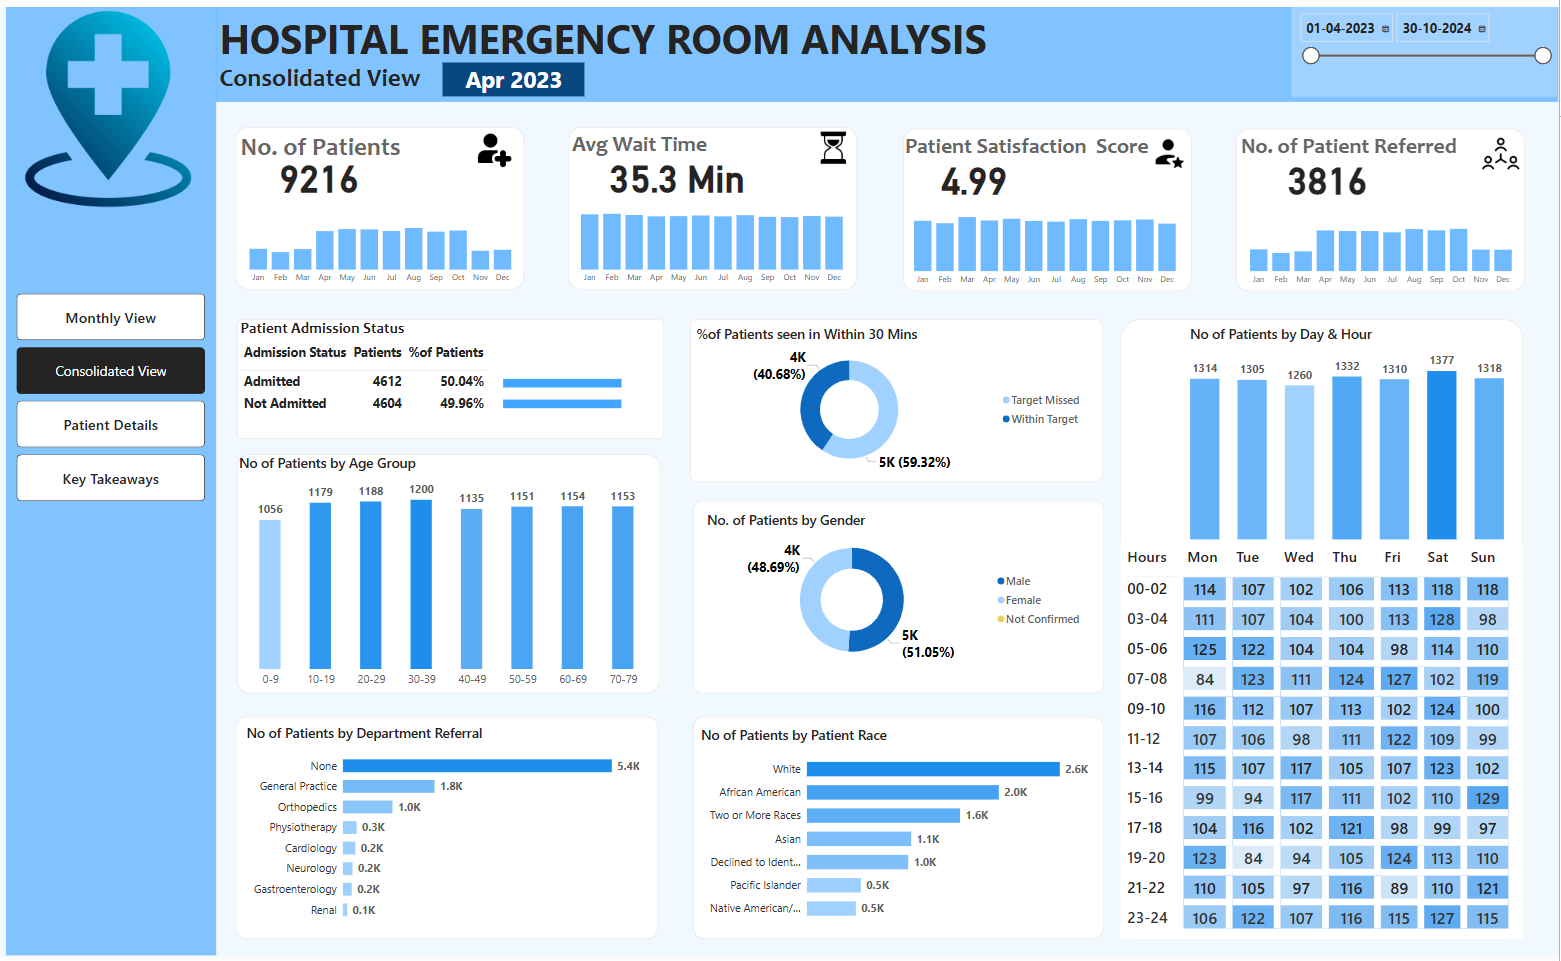

Layout of this report page (visuals, bound fields, positions):
{"tool":"powerbi","page":{"name":"Consolidated View","canvas":[2300,1400],"ordinal":1},"visuals":[{"type":"shape","box":[1018.8,459.4,609.4,240.6],"z":0},{"type":"shape","box":[349.7,459.2,630,177],"z":1000},{"type":"shape","box":[346.7,176.4,425.7,240.2],"z":2000},{"type":"shape","box":[9.1,0,310,1398.9],"z":3000},{"type":"shape","box":[319.3,0,1979.7,140],"z":4000},{"type":"textbox","box":[319.3,0,1216.4,97.3],"z":5000},{"type":"textbox","box":[318.8,75,334.4,59.4],"z":6000},{"type":"card","fields":{"Values":["Hospital ER_Data.No of Patients"]},"box":[397.3,210.8,143.2,73],"z":7000},{"type":"slicer","fields":{"Values":["DateTable.Date"]},"box":[1905.4,0,391.9,132.4],"z":8000},{"type":"textbox","box":[349.7,176.4,270.6,63.9],"z":10000},{"type":"columnChart","fields":{"Category":["DateTable.Month Name"],"Y":["Hospital ER_Data.No of Patients"]},"box":[349.7,282.8,422.7,133.8],"z":11000},{"type":"card","fields":{"Values":["Min(DateTable.MonthYear)"]},"box":[653.1,81.2,209.4,50],"z":12000},{"type":"shape","box":[838.5,176.2,425.7,240.2],"z":13000},{"type":"card","fields":{"Values":["Hospital ER_Data.Avg Wait Time"]},"box":[888,209.8,222,73],"z":14000},{"type":"textbox","box":[838.2,176.2,270.6,63.9],"z":15000},{"type":"columnChart","fields":{"Y":["Avg(Hospital ER_Data.Patient Waittime)"],"Category":["DateTable.Month Name"]},"box":[838.2,282.7,422.7,133.8],"z":16000},{"type":"shape","box":[1332.4,178.1,425.7,240.2],"z":17000},{"type":"card","fields":{"Values":["Hospital ER_Data.Avg Patient Satisfaction Score"]},"box":[1377.3,211.6,115.6,73],"z":18000},{"type":"textbox","box":[1328.9,179.4,422.7,60.8],"z":19000},{"type":"columnChart","fields":{"Y":["Hospital ER_Data.Avg Patient Satisfaction Score"],"Category":["DateTable.Month Name"]},"box":[1328.6,284.6,422.7,133.8],"z":20000},{"type":"shape","box":[1822.2,180,425.7,240.2],"z":21000},{"type":"card","fields":{"Values":["Hospital ER_Data.No. of Patient Referred"]},"box":[1875,212.5,162.5,75],"z":22000},{"type":"textbox","box":[1824.6,179.4,422.7,63.9],"z":23000},{"type":"columnChart","fields":{"Category":["DateTable.Month Name"],"Y":["Hospital ER_Data.No. of Patient Referred"]},"box":[1825.2,286.5,422.7,133.8],"z":24000},{"type":"pivotTable","title":"Patient Admission Status","fields":{"Rows":["Hospital ER_Data.Admission Status"],"Values":["Hospital ER_Data.No of Patients1","Hospital ER_Data.No of Patients"]},"box":[349.7,459.2,513.9,176.4],"z":25000},{"type":"clusteredBarChart","fields":{"Category":["Hospital ER_Data.Admission Status"],"Y":["Hospital ER_Data.No of Patients"]},"box":[735.9,520,237.2,94.3],"z":26000},{"type":"shape","box":[349.7,659.9,623.4,352.8],"z":27000},{"type":"clusteredColumnChart","fields":{"Category":["Hospital ER_Data.Age Group"],"Y":["Hospital ER_Data.No of Patients"]},"box":[346.7,659.9,623.4,352.8],"z":28000},{"type":"shape","box":[346.7,1046.1,623.4,328.4],"z":29000},{"type":"clusteredBarChart","fields":{"Category":["Hospital ER_Data.Department Referral"],"Y":["Hospital ER_Data.No of Patients"]},"box":[358.8,1058.3,590,301.1],"z":30000},{"type":"donutChart","title":"%of Patients seen in Within 30 Mins","fields":{"Category":["Hospital ER_Data.Waittime Status"],"Y":["Hospital ER_Data.No of Patients"]},"box":[1021.9,468.8,584.4,221.9],"z":31000},{"type":"shape","box":[1021.9,728.1,606.2,284.4],"z":32000},{"type":"donutChart","title":"No. of Patients by Gender","fields":{"Y":["Hospital ER_Data.No of Patients"],"Category":["Hospital ER_Data.Patient Gender"]},"box":[1037.5,743.8,568.8,234.4],"z":33000},{"type":"shape","box":[1021.9,1046.9,606.2,328.1],"z":34000},{"type":"clusteredBarChart","fields":{"Y":["Hospital ER_Data.No of Patients"],"Category":["Hospital ER_Data.Patient Race"]},"box":[1028.1,1059.4,590.6,300],"z":35000},{"type":"shape","box":[1653.1,459.4,593.8,915.6],"z":36000},{"type":"pivotTable","fields":{"Rows":["Hospital ER_Data.Waittime Interval"],"Columns":["DateTable.Day Name"],"Values":["Hospital ER_Data.No of Patients"]},"box":[1653.1,790.6,593.8,584.4],"z":37000},{"type":"columnChart","title":"No of Patients by Day & Hour","fields":{"Category":["DateTable.Day Name"],"Y":["Hospital ER_Data.No of Patients"]},"box":[1750,468.8,475,321.9],"z":38000},{"type":"image","box":[0,0,318.8,300],"z":39000},{"type":"image","box":[696.9,181.2,65.6,59.4],"z":40000},{"type":"image","box":[1200,175.7,59.5,64.9],"z":41000},{"type":"image","box":[1690.6,184.4,65.6,59.4],"z":42000},{"type":"image","box":[2178.1,184.4,68.8,65.6],"z":43000},{"type":"pageNavigator","box":[25,421.9,278.1,306.2],"z":43001}]}

Visuals, with their boxes in screenshot pixels (x1, y1, x2, y2), scaled from the page's 2300x1400 canvas onto the 1561x961 screenshot:
shape: crop(691, 315, 1105, 480)
shape: crop(237, 315, 665, 437)
shape: crop(235, 121, 524, 286)
shape: crop(6, 0, 217, 960)
shape: crop(217, 0, 1560, 96)
textbox: crop(217, 0, 1042, 67)
textbox: crop(216, 51, 443, 92)
card - Hospital ER_Data.No of Patients: crop(270, 145, 367, 195)
slicer - DateTable.Date: crop(1293, 0, 1559, 91)
textbox: crop(237, 121, 421, 165)
columnChart - DateTable.Month Name x Hospital ER_Data.No of Patients: crop(237, 194, 524, 286)
card - Min(DateTable.MonthYear): crop(443, 56, 585, 90)
shape: crop(569, 121, 858, 286)
card - Hospital ER_Data.Avg Wait Time: crop(603, 144, 753, 194)
textbox: crop(569, 121, 753, 165)
columnChart - Avg(Hospital ER_Data.Patient Waittime) x DateTable.Month Name: crop(569, 194, 856, 286)
shape: crop(904, 122, 1193, 287)
card - Hospital ER_Data.Avg Patient Satisfaction Score: crop(935, 145, 1013, 195)
textbox: crop(902, 123, 1189, 165)
columnChart - Hospital ER_Data.Avg Patient Satisfaction Score x DateTable.Month Name: crop(902, 195, 1189, 287)
shape: crop(1237, 124, 1526, 288)
card - Hospital ER_Data.No. of Patient Referred: crop(1273, 146, 1383, 197)
textbox: crop(1238, 123, 1525, 167)
columnChart - DateTable.Month Name x Hospital ER_Data.No. of Patient Referred: crop(1239, 197, 1526, 289)
"Patient Admission Status" pivotTable: crop(237, 315, 586, 436)
clusteredBarChart - Hospital ER_Data.Admission Status x Hospital ER_Data.No of Patients: crop(499, 357, 660, 422)
shape: crop(237, 453, 660, 695)
clusteredColumnChart - Hospital ER_Data.Age Group x Hospital ER_Data.No of Patients: crop(235, 453, 658, 695)
shape: crop(235, 718, 658, 943)
clusteredBarChart - Hospital ER_Data.Department Referral x Hospital ER_Data.No of Patients: crop(244, 726, 644, 933)
"%of Patients seen in Within 30 Mins" donutChart: crop(694, 322, 1090, 474)
shape: crop(694, 500, 1105, 695)
"No. of Patients by Gender" donutChart: crop(704, 511, 1090, 671)
shape: crop(694, 719, 1105, 944)
clusteredBarChart - Hospital ER_Data.No of Patients x Hospital ER_Data.Patient Race: crop(698, 727, 1099, 933)
shape: crop(1122, 315, 1525, 944)
pivotTable - Hospital ER_Data.Waittime Interval x DateTable.Day Name: crop(1122, 543, 1525, 944)
"No of Patients by Day & Hour" columnChart: crop(1188, 322, 1510, 543)
image: crop(0, 0, 216, 206)
image: crop(473, 124, 518, 165)
image: crop(814, 121, 855, 165)
image: crop(1147, 127, 1192, 167)
image: crop(1478, 127, 1525, 172)
pageNavigator: crop(17, 290, 206, 500)
